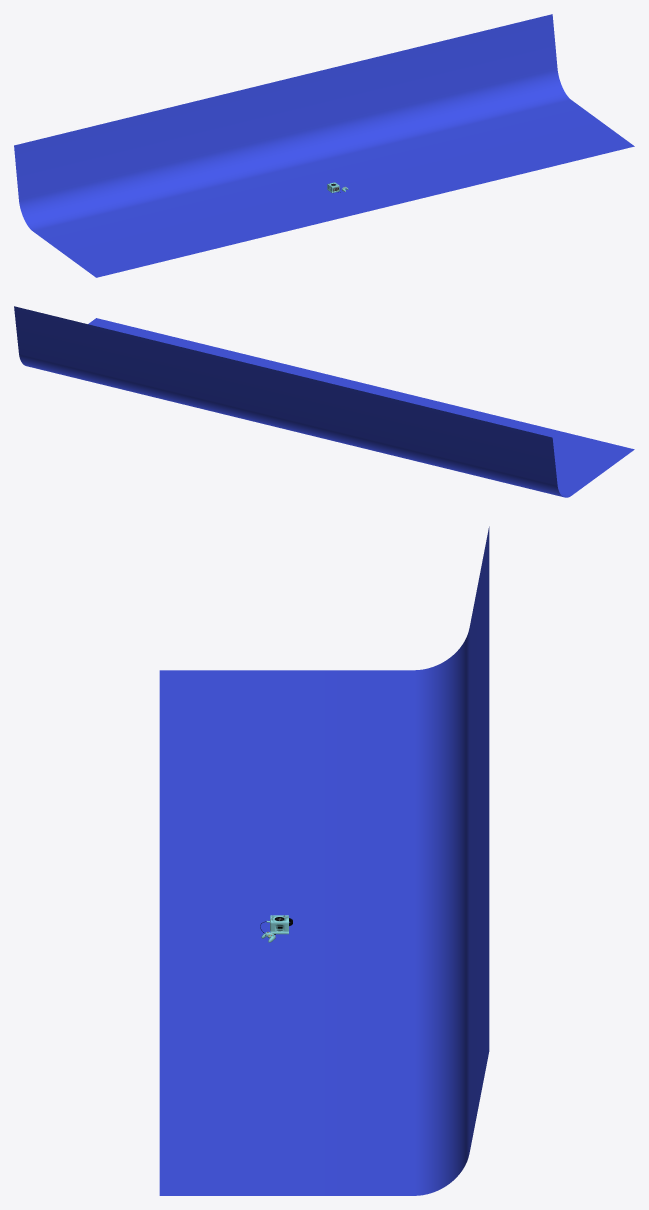
3 renders of one model, top to bottom at view 1: azimuth 30°, elevation 25°; view 2: azimuth 150°, elevation 25°; view 3: azimuth 270°, elevation 25°, orthographic. The views are drawn at different scales.
Visible parts, largest first — view 1: Ground; view 2: Ground; view 3: Ground.
Boxes of the visible parts, x1,y1,x2,y2 form: Ground: (14,14,634,277); Ground: (14,306,634,497); Ground: (159,526,489,1195).
Bounding box in the file's own units: 37.84 × 4.85 × 10.02.
